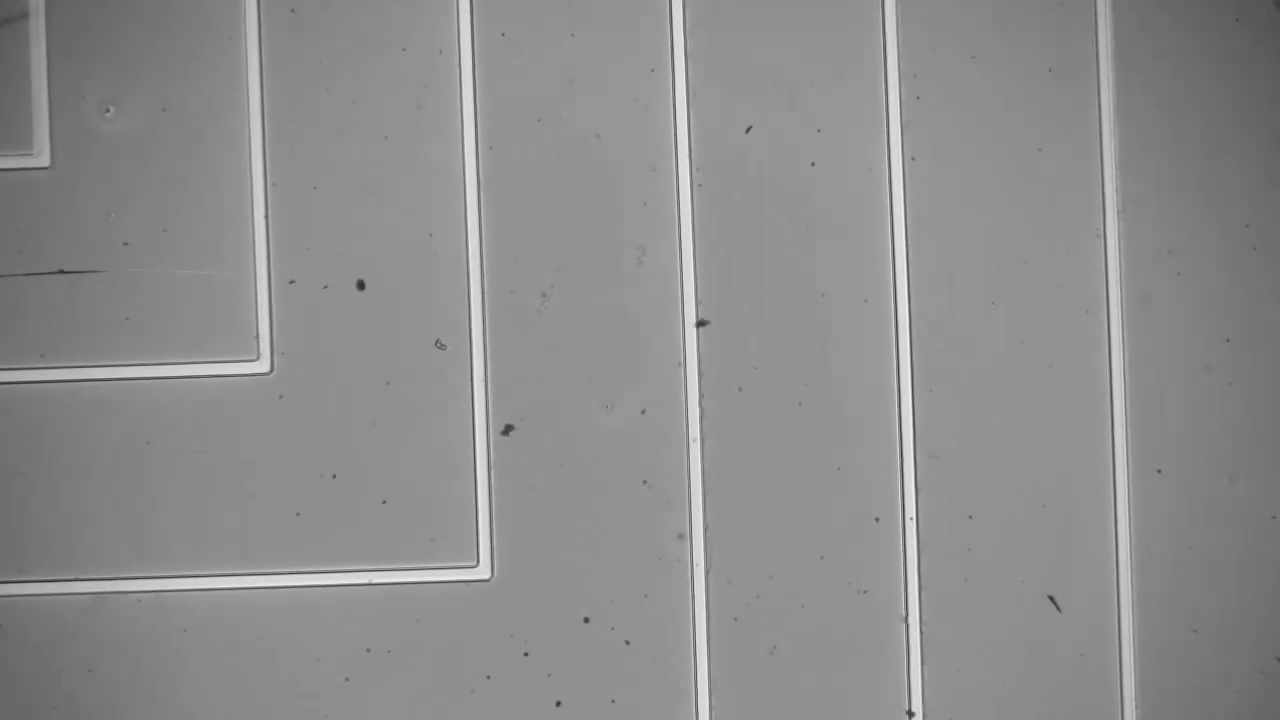scratch: (1, 250, 123, 313), (669, 304, 717, 342)
